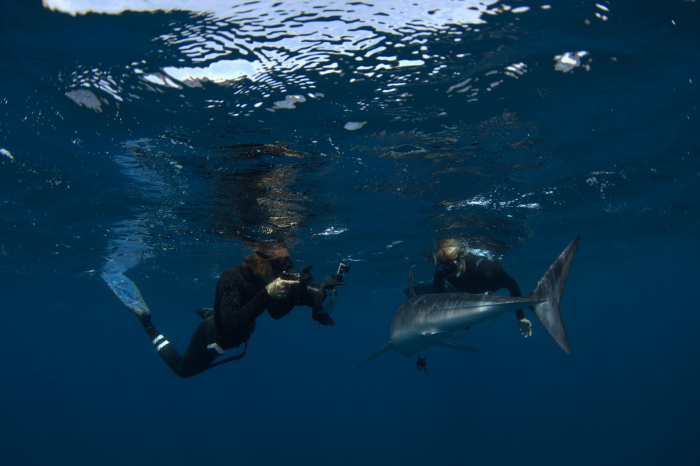Mako: (348, 230, 590, 380)
